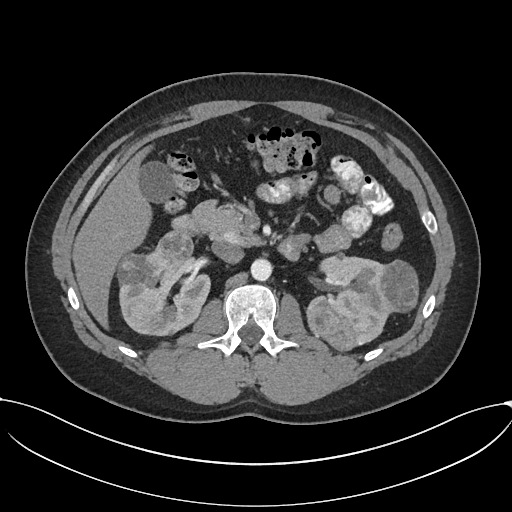Lesion: (377, 260, 419, 313), (110, 252, 156, 290)
